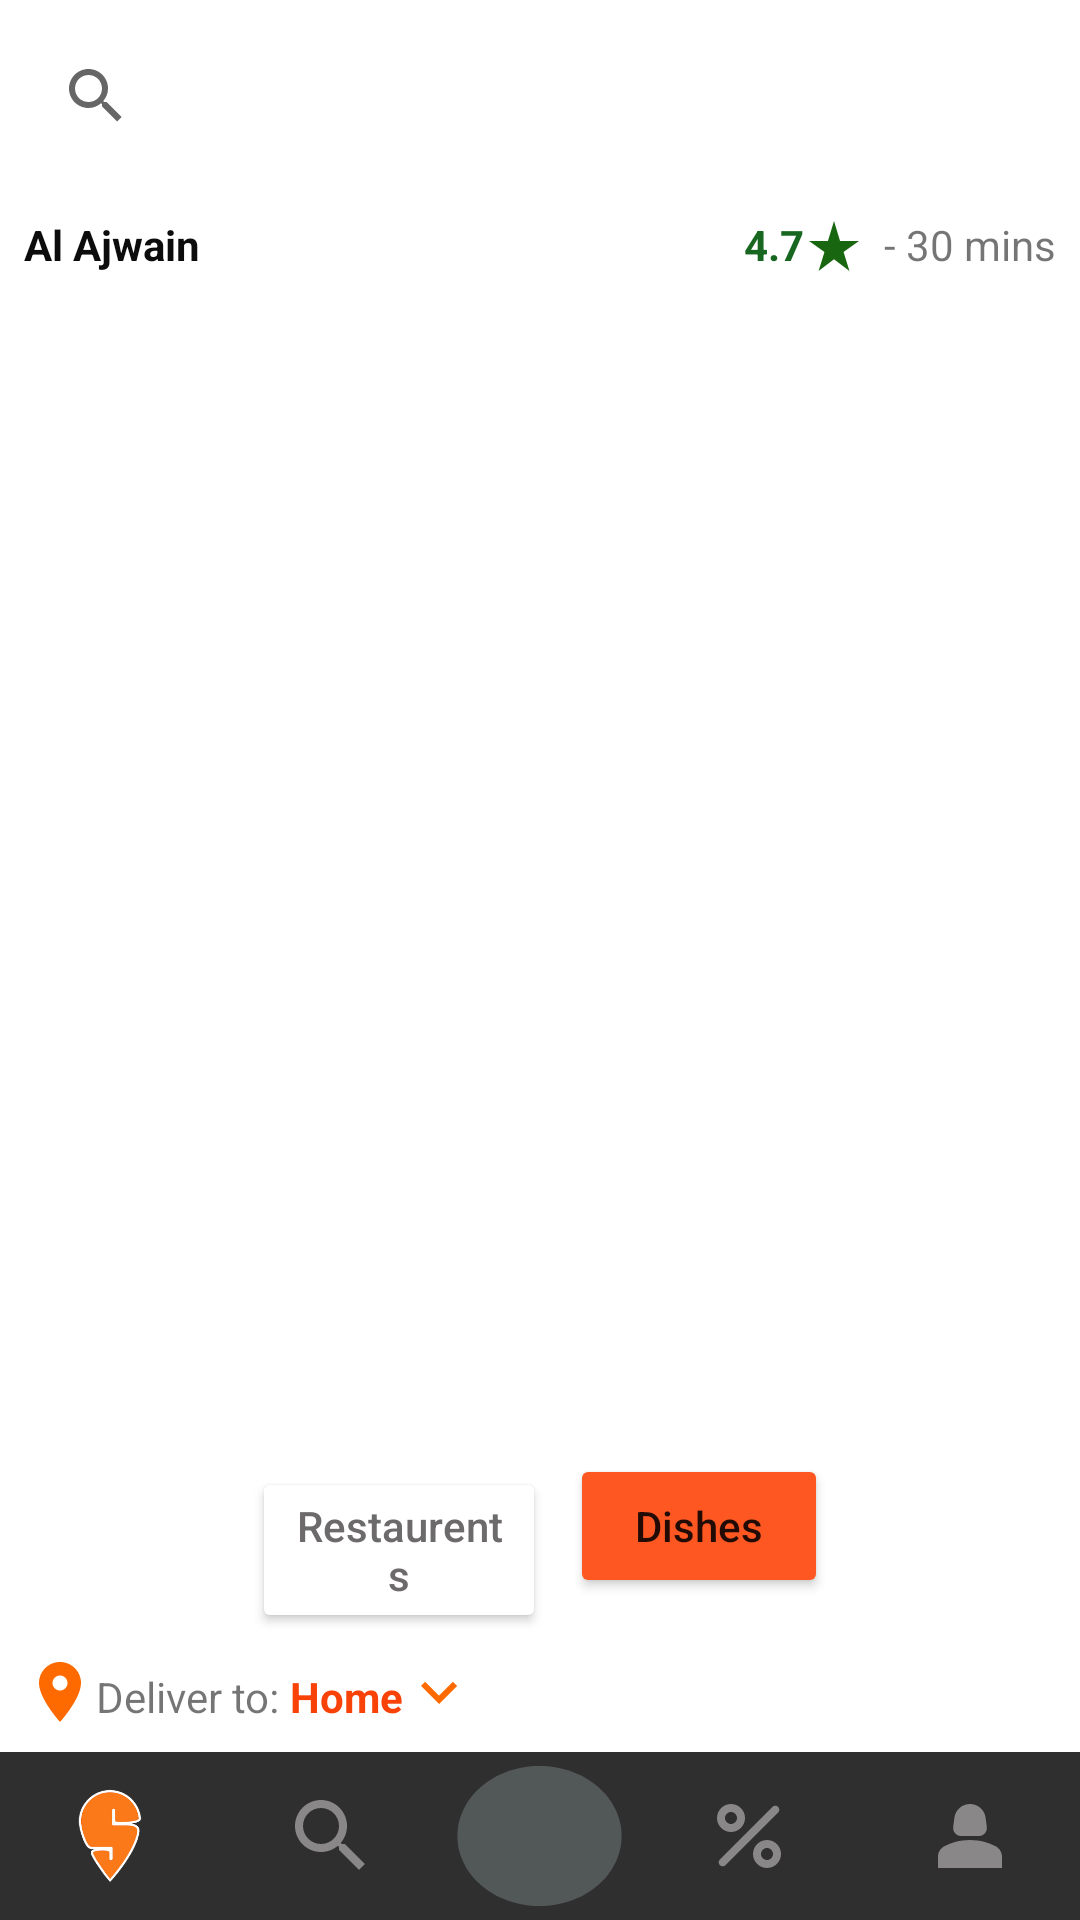

Screen size 1080 × 1920. Icon name, then its center in pixels as (x,y):
keyboard arrow down: (439,1693)
location on: (60,1692)
percent: (749,1836)
person: (970,1836)
star rate: (834,246)
